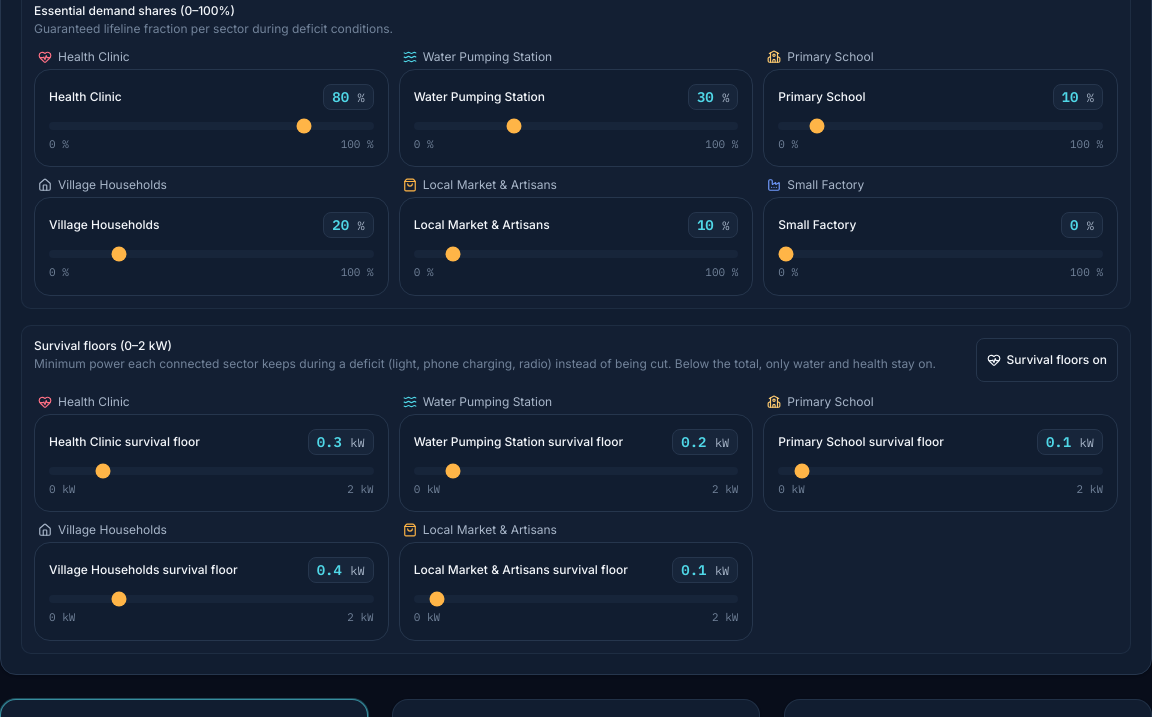
StrategyLabPage (P4-T5, P4-T7) › comparison parameters panel (PZ-T1..T4) › turns survival floors off and on, hiding the floor sliders while off
The width and height of the screenshot is (1152, 717).
Step 1. Click the button "Survival floors on" → (1047,360), box [976,338,1118,382]
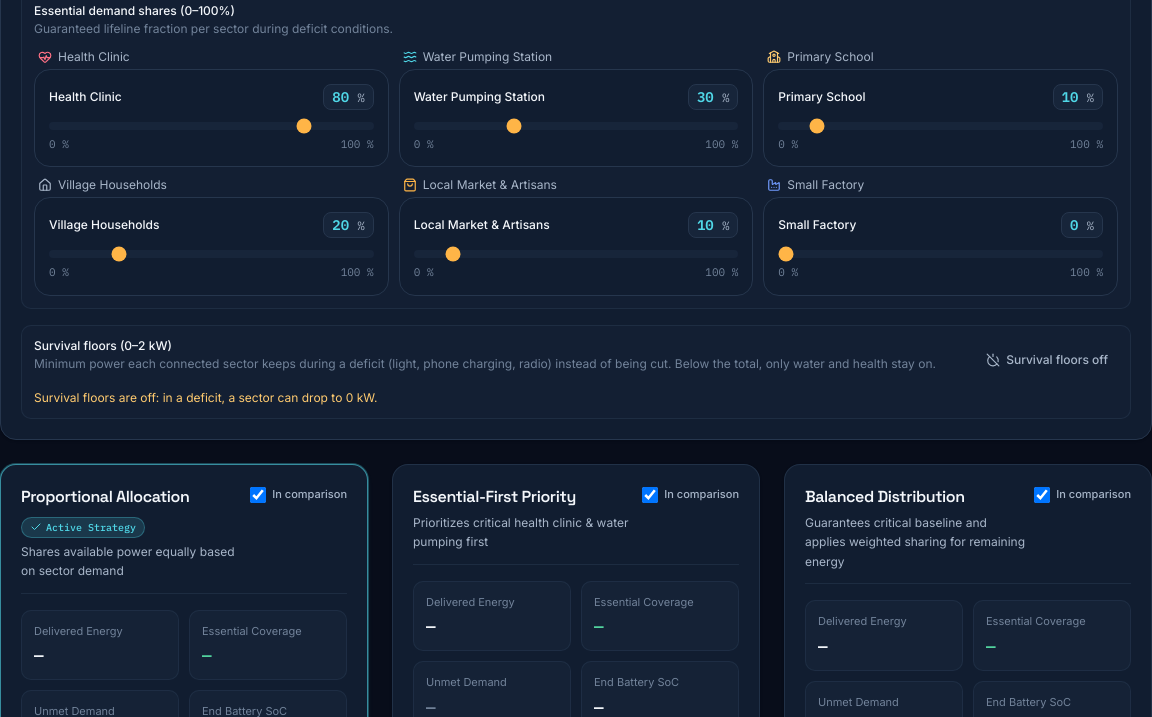
Now the label labelled "Health Clinic survival floor" is gone
Now the text "can drop to 0 kW" is shown, box [34,390,377,404]
Step 2. Click the button "Survival floors off" → (1047,360), box [976,338,1118,382]
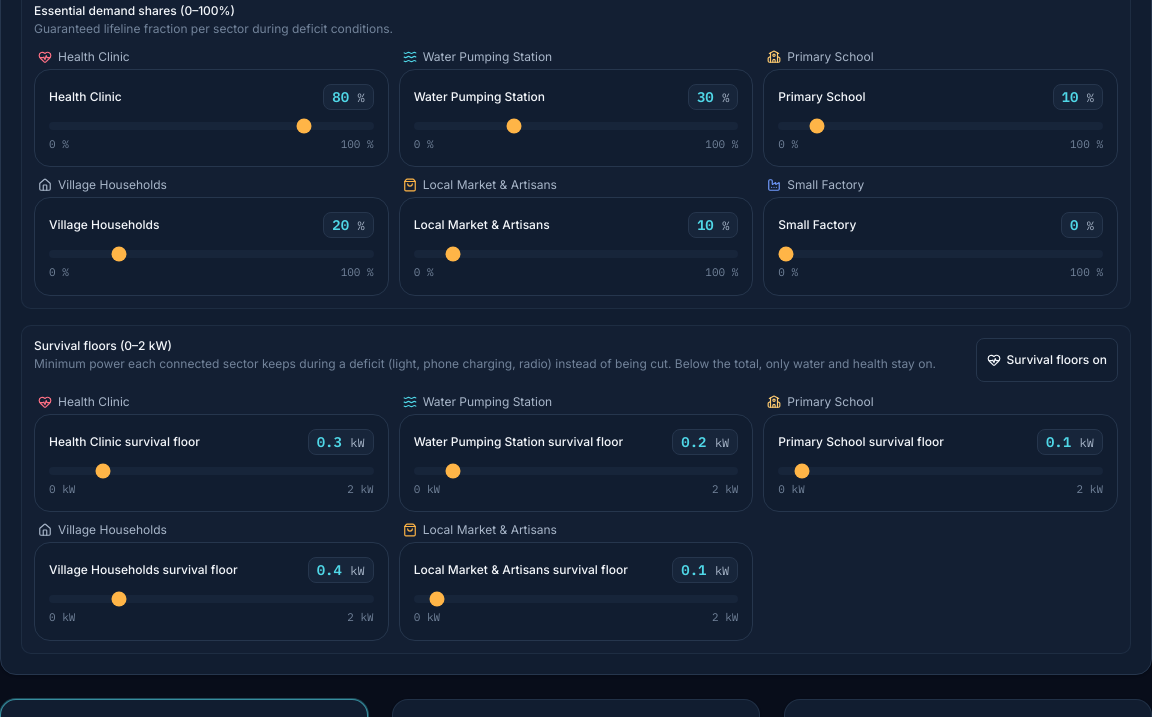
Now the slider labelled "Health Clinic survival floor" is shown, box [49,466,374,474]
